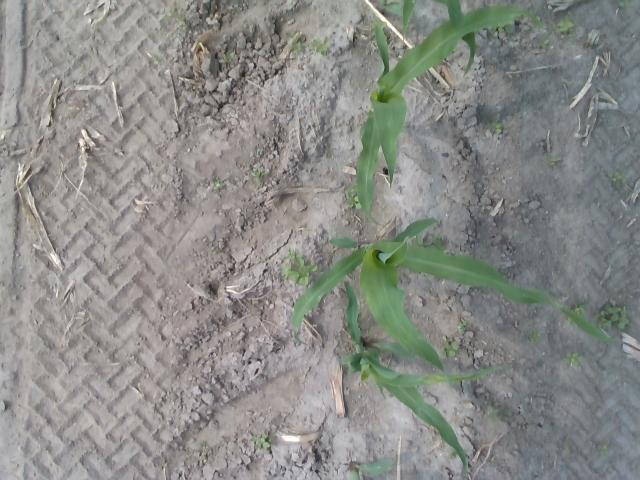Maize: (290, 217, 615, 371), (358, 4, 542, 227), (343, 278, 467, 479), (383, 1, 475, 77), (348, 457, 392, 480)
Weeds: (296, 257, 318, 286), (600, 308, 620, 324), (282, 263, 299, 281), (441, 342, 458, 358), (310, 38, 329, 52), (251, 434, 269, 448), (559, 15, 572, 32), (620, 307, 630, 329), (564, 352, 577, 366), (488, 405, 499, 420), (348, 191, 358, 207), (223, 52, 236, 63), (492, 122, 503, 134), (528, 332, 540, 342), (434, 238, 446, 248), (456, 320, 466, 331), (167, 8, 177, 18), (538, 37, 548, 47), (287, 248, 296, 259), (598, 445, 608, 454), (252, 170, 262, 179), (612, 172, 620, 183), (574, 304, 584, 312), (552, 158, 562, 166), (214, 181, 222, 189), (619, 1, 630, 6), (622, 174, 628, 182), (296, 42, 302, 50), (179, 19, 186, 25)
